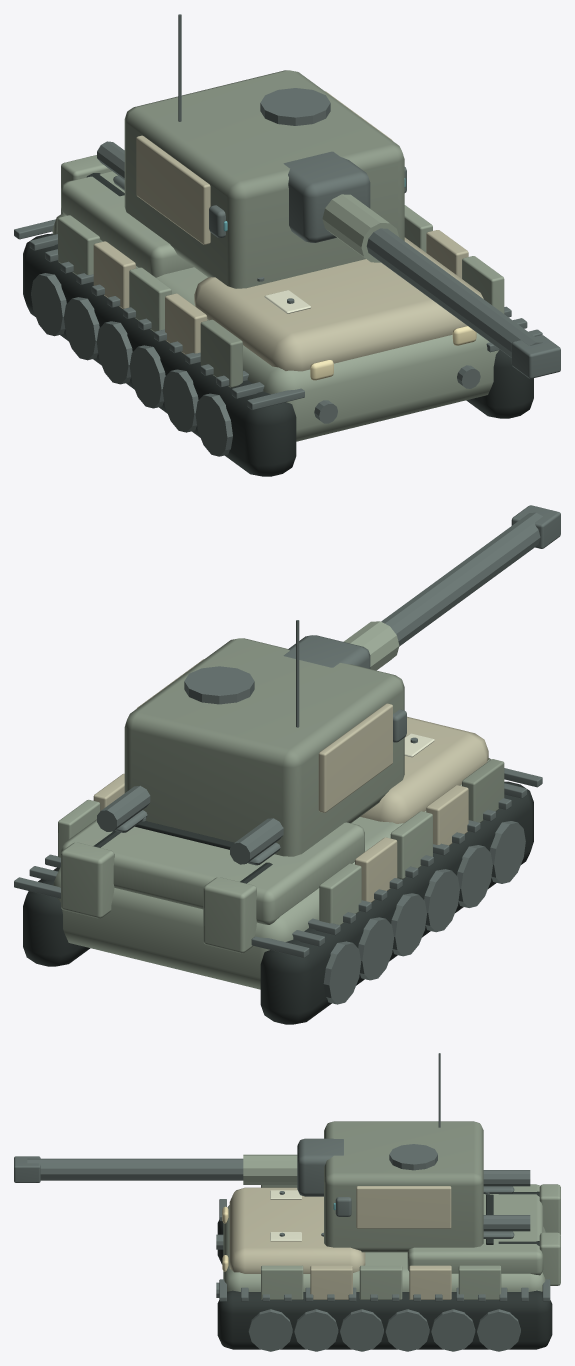
Rendered from artillery.glb.
The picture shows the model from 3 angles, top to bottom: view 1: azimuth 30°, elevation 25°; view 2: azimuth 150°, elevation 25°; view 3: azimuth 270°, elevation 25°; orthographic projection. The views are drawn at different scales.
Visible parts, largest first — view 1: Chassis, TurretArmor; view 2: Chassis, TurretArmor; view 3: Chassis, TurretArmor.
Boxes of the visible parts, x1,y1,x2,y2 form: Chassis: (14, 141, 542, 476); TurretArmor: (124, 14, 560, 378); Chassis: (14, 716, 542, 1024); TurretArmor: (124, 505, 560, 856); Chassis: (216, 1170, 560, 1351); TurretArmor: (14, 1053, 483, 1252).
Size of the model in its own units: 3.14 by 3.38 by 7.19.
